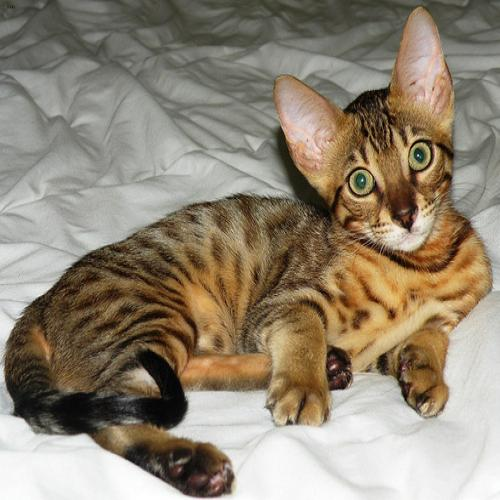bengal: (276, 7, 460, 256)
